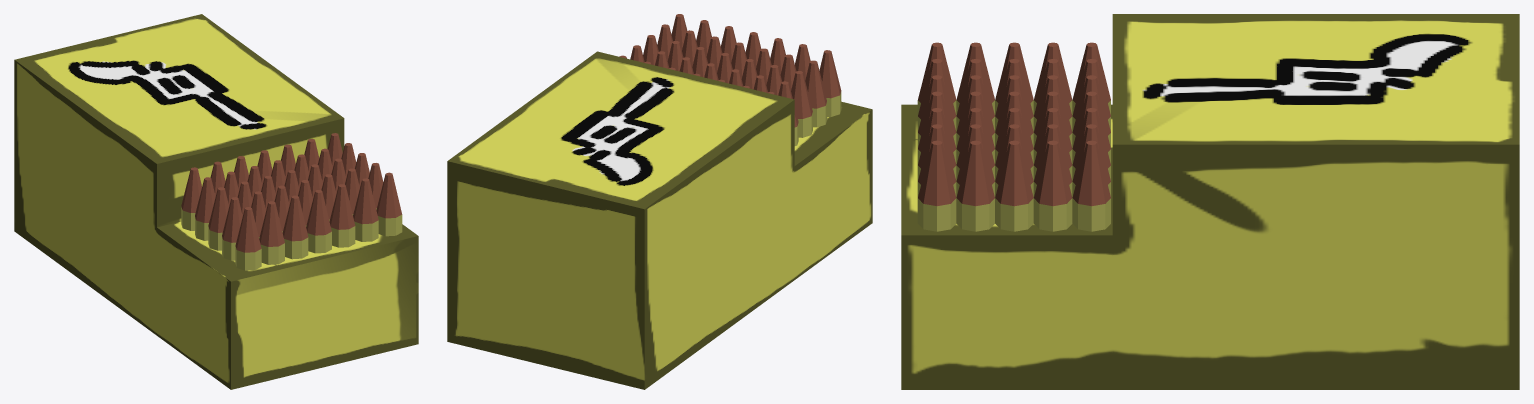
File: revolver_ap.glb
3 renders of one model, left to right at view 1: azimuth 30°, elevation 25°; view 2: azimuth 150°, elevation 25°; view 3: azimuth 270°, elevation 25°, orthographic. The views are drawn at different scales.
Visible parts, largest first — view 1: revolver_ap; view 2: revolver_ap; view 3: revolver_ap.
Part boxes in pixels (left/top/right/bottom): revolver_ap: left=14, top=14, right=418, bottom=389; revolver_ap: left=447, top=14, right=872, bottom=389; revolver_ap: left=901, top=14, right=1519, bottom=389.
Bounding box in the file's own units: 0.08 × 0.07 × 0.16.
Materials: 1 (1 with a texture image).
